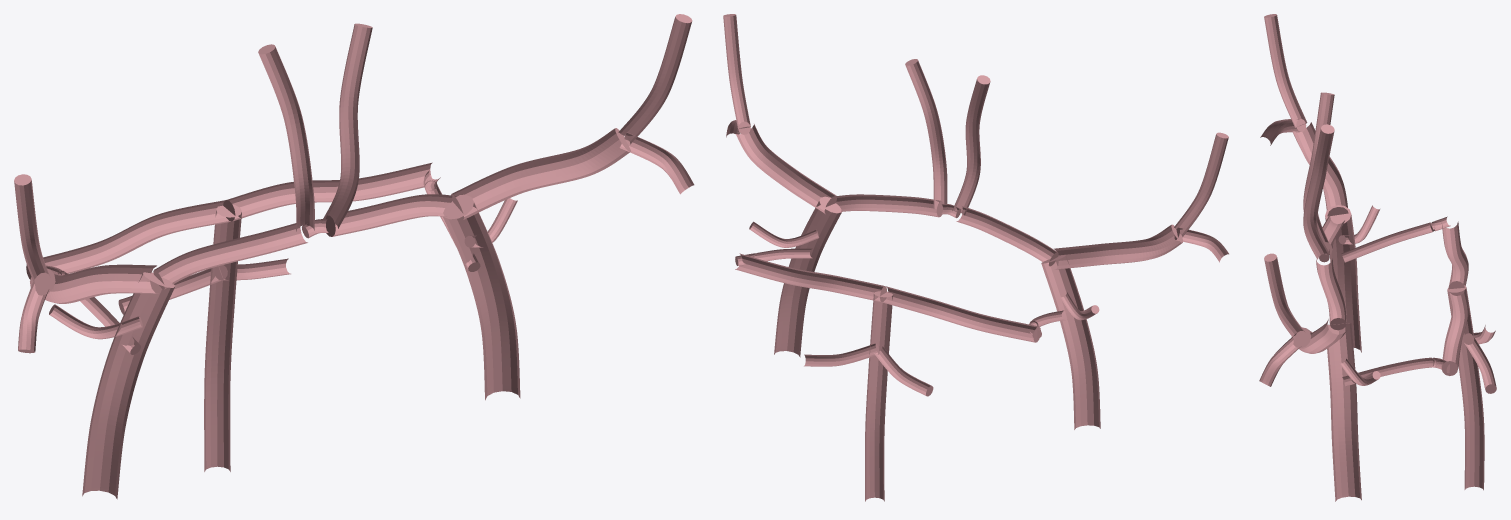
The picture shows the model from 3 angles, left to right: view 1: azimuth 30°, elevation 25°; view 2: azimuth 150°, elevation 25°; view 3: azimuth 270°, elevation 25°; orthographic projection. The views are drawn at different scales.
Visible parts, largest first — view 1: ACI terminal E, ACI terminal D, Artéria basilar, ACM M1 D, ACP P1 E, ACA A2 D, ACP P1 D, ACA A2 E, ACA A1 E, ACM M1 E, ACA A1 D, ACM M2 superior D (+7 smaller); view 2: ACI terminal E, Artéria basilar, ACI terminal D, ACM M1 E, ACP P1 E, ACP P1 D, ACM M1 D, ACA A2 D, ACA A2 E, ACA A1 E, ACA A1 D, ACM M2 superior D (+6 smaller); view 3: ACI terminal D, Artéria basilar, ACI terminal E, ACA A2 D, ACM M2 superior E, ACM M1 E, ACP P1 D, Comunicante posterior E, ACM M2 superior D, ACA A1 D, ACP P1 E, ACA A2 E (+9 smaller).
Boxes of the visible parts, x1,y1,x2,y2 form: ACI terminal E: (82,272,175,499); ACI terminal D: (443,194,520,400); Artéria basilar: (204,204,241,471); ACM M1 D: (451,128,630,219); ACP P1 E: (26,200,230,279); ACA A2 D: (321,23,372,228); ACP P1 D: (223,162,432,221); ACA A2 E: (258,44,314,231); ACA A1 E: (153,221,307,289); ACM M1 E: (30,264,158,303); ACA A1 D: (325,194,456,236); ACM M2 superior D: (618,14,692,144); ACI terminal E: (1041,255,1100,429); Artéria basilar: (865,291,893,501); ACI terminal D: (774,196,841,357); ACM M1 E: (1054,224,1183,269); ACP P1 E: (882,286,1040,342); ACP P1 D: (735,253,886,302); ACM M1 D: (736,124,836,214); ACA A2 D: (905,59,947,208); ACA A2 E: (952,75,990,215); ACA A1 E: (956,206,1058,266); ACA A1 D: (831,194,943,217); ACM M2 superior D: (723,14,750,129); ACI terminal D: (1327,323,1361,501); Artéria basilar: (1447,285,1484,490); ACI terminal E: (1325,205,1361,352); ACA A2 D: (1303,124,1334,259); ACM M2 superior E: (1264,14,1307,127); ACM M1 E: (1292,122,1348,216); ACP P1 D: (1441,289,1468,375); Comunicante posterior E: (1341,216,1450,262); ACM M2 superior D: (1264,253,1305,340); ACA A1 D: (1316,258,1346,330); ACP P1 E: (1441,221,1468,295); ACA A2 E: (1303,92,1334,242).
Bounding box in the file's own units: 8.39 × 6.03 × 3.41.
